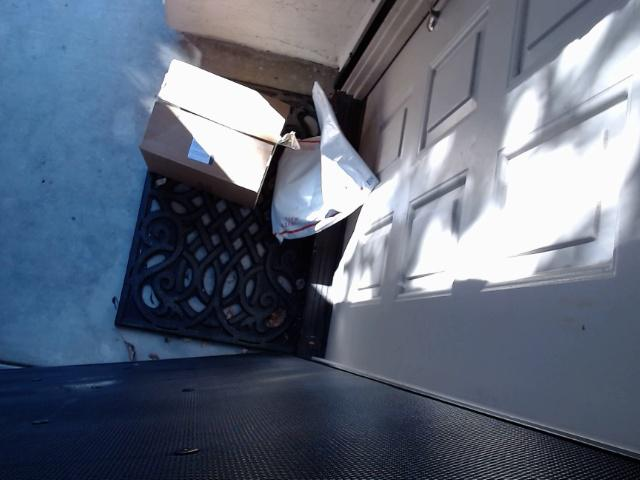box: (139, 58, 291, 210)
plastic_bag: (272, 80, 380, 243)
